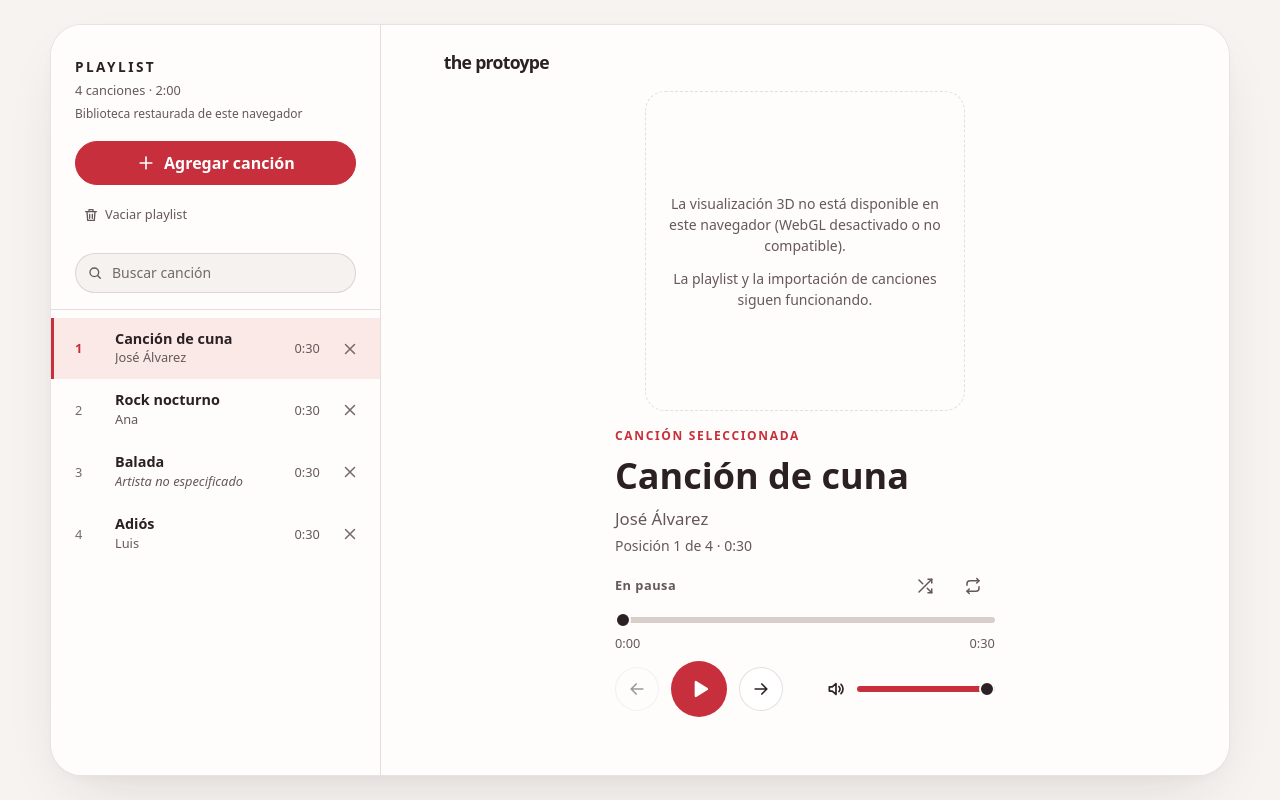
Test: búsqueda › distingue "sin coincidencias" de "playlist vacía" y se limpia con un botón accesible
Step 1. Type "zzz" into the search field labelled "Buscar canción" → (215, 273), box [75,253,356,293]
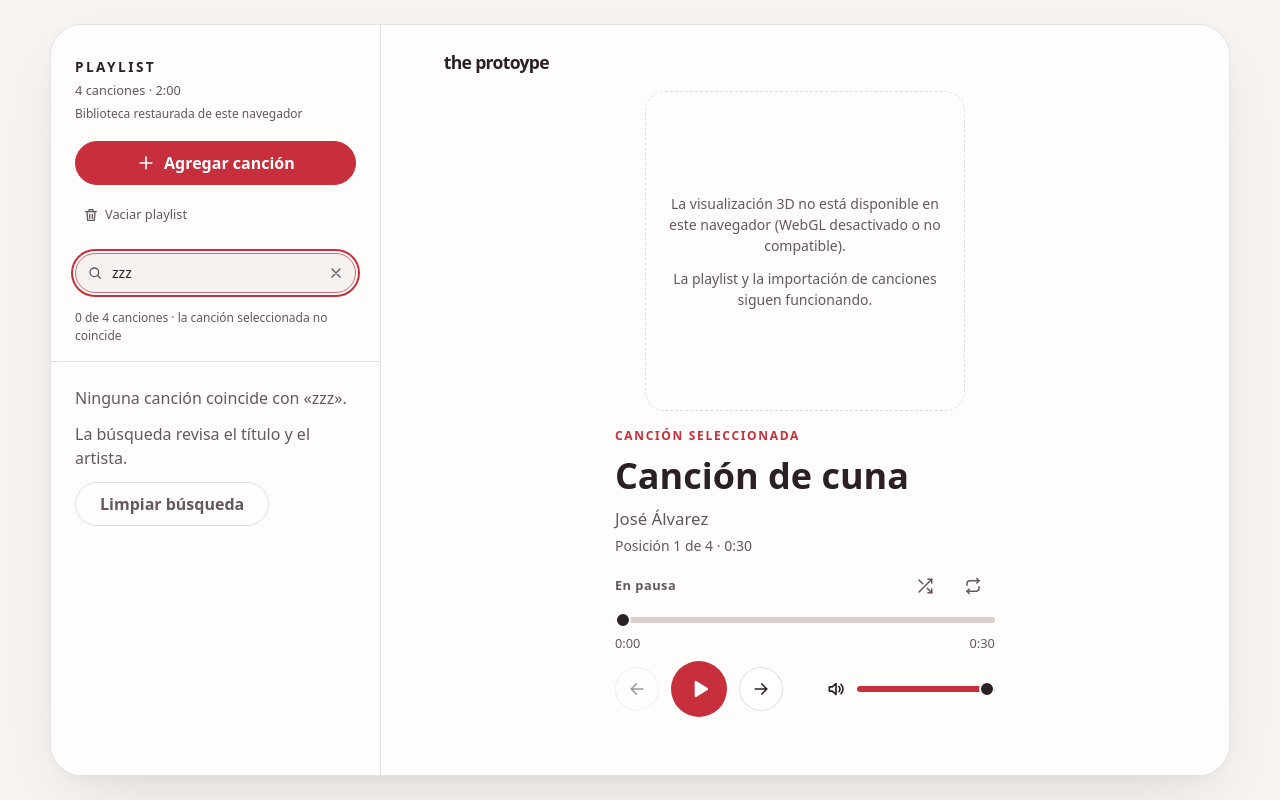
Expected: the element with test id "no-results" shows "Ninguna canción coincide con «zzz»", [75,387,347,526]
Step 2. Click the button named "Limpiar búsqueda" → (336, 273), box [320,257,352,289]
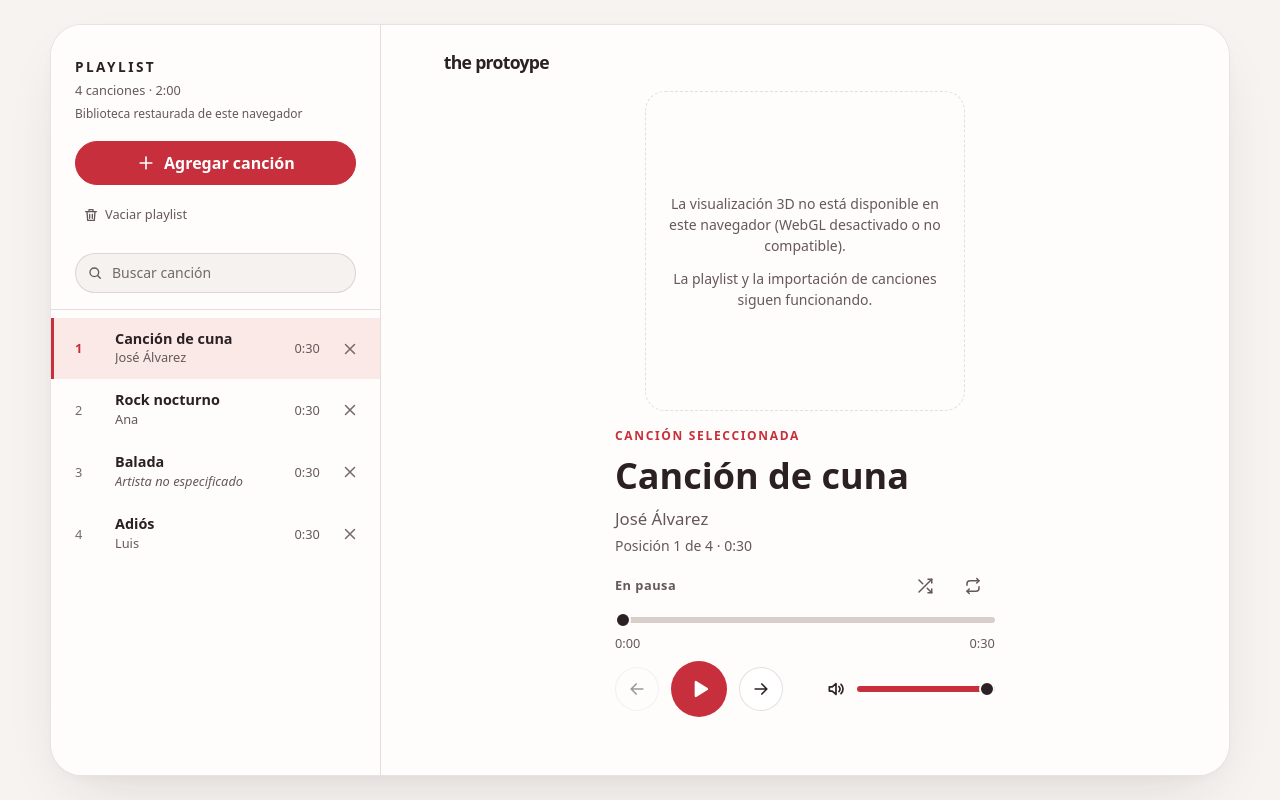
Expected: the search field labelled "Buscar canción" is empty, [75,253,356,293]
